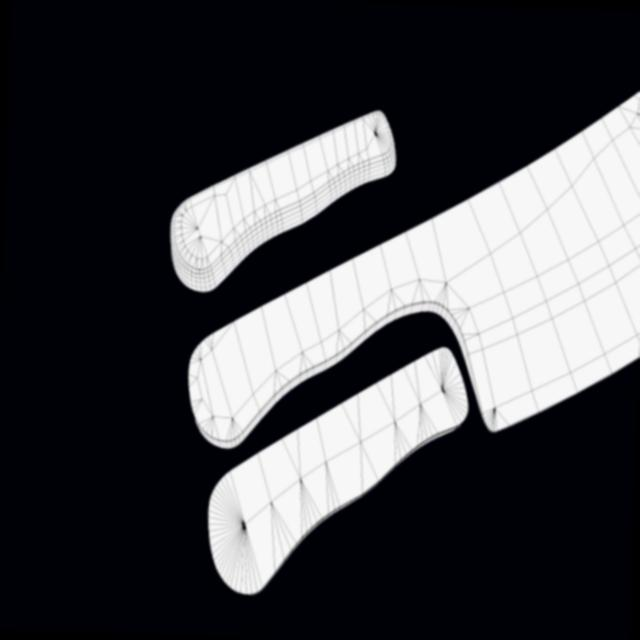cleaver: (196, 67, 640, 463)
